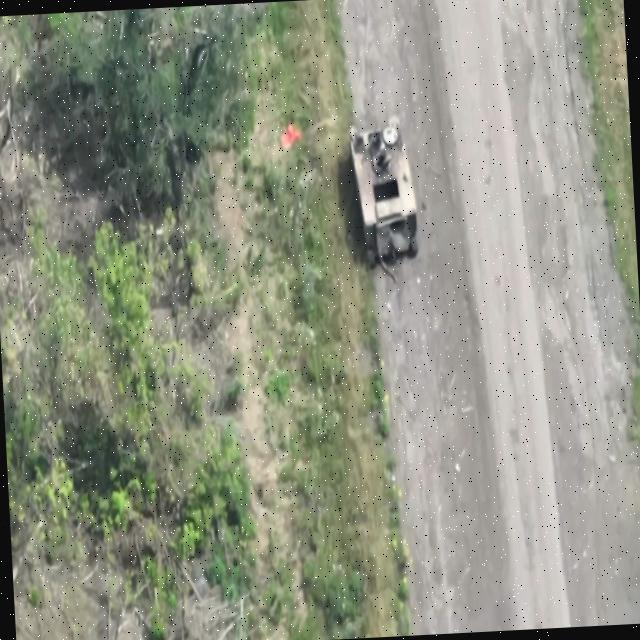APC: (347, 116, 422, 273)
